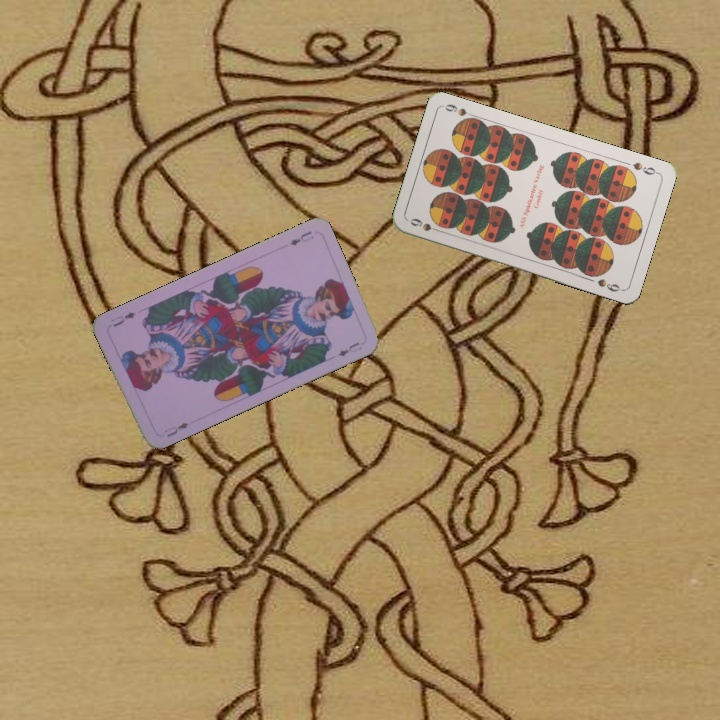EU: (160, 417, 195, 440), (286, 227, 317, 248)
S9: (406, 214, 445, 235), (629, 158, 661, 178)
